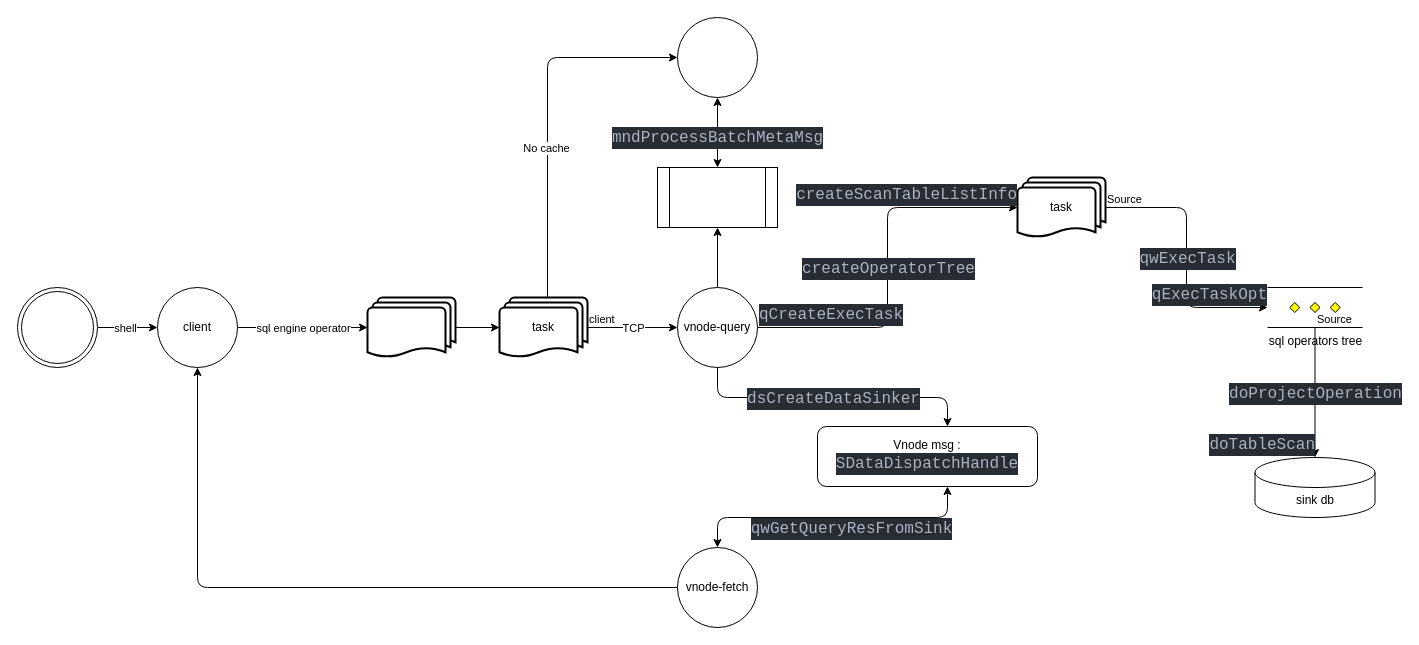
Image size: 1419x645. Some labels were removed from this diagram. Here are the shapes that lost their labels. From the top down, the centre of each, then its label:
(x=717, y=57): mnode-read
(x=717, y=197): cache 表元数据
(x=57, y=327): Sql
(x=411, y=327): job
